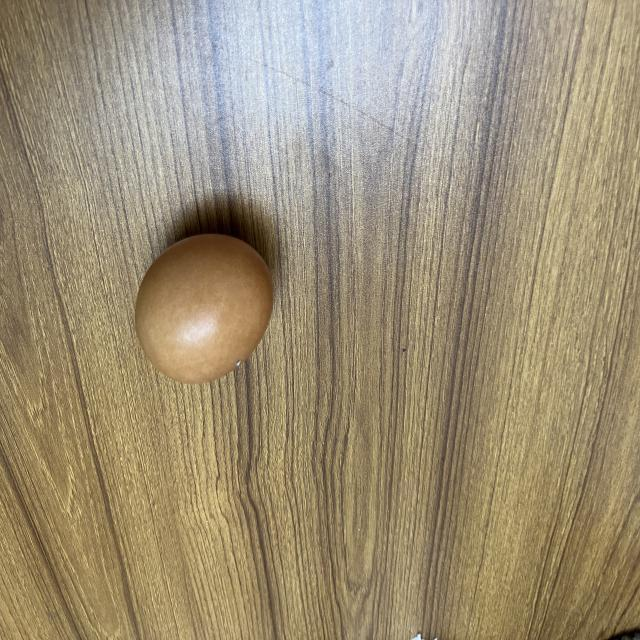egg: (127, 230, 284, 396)
